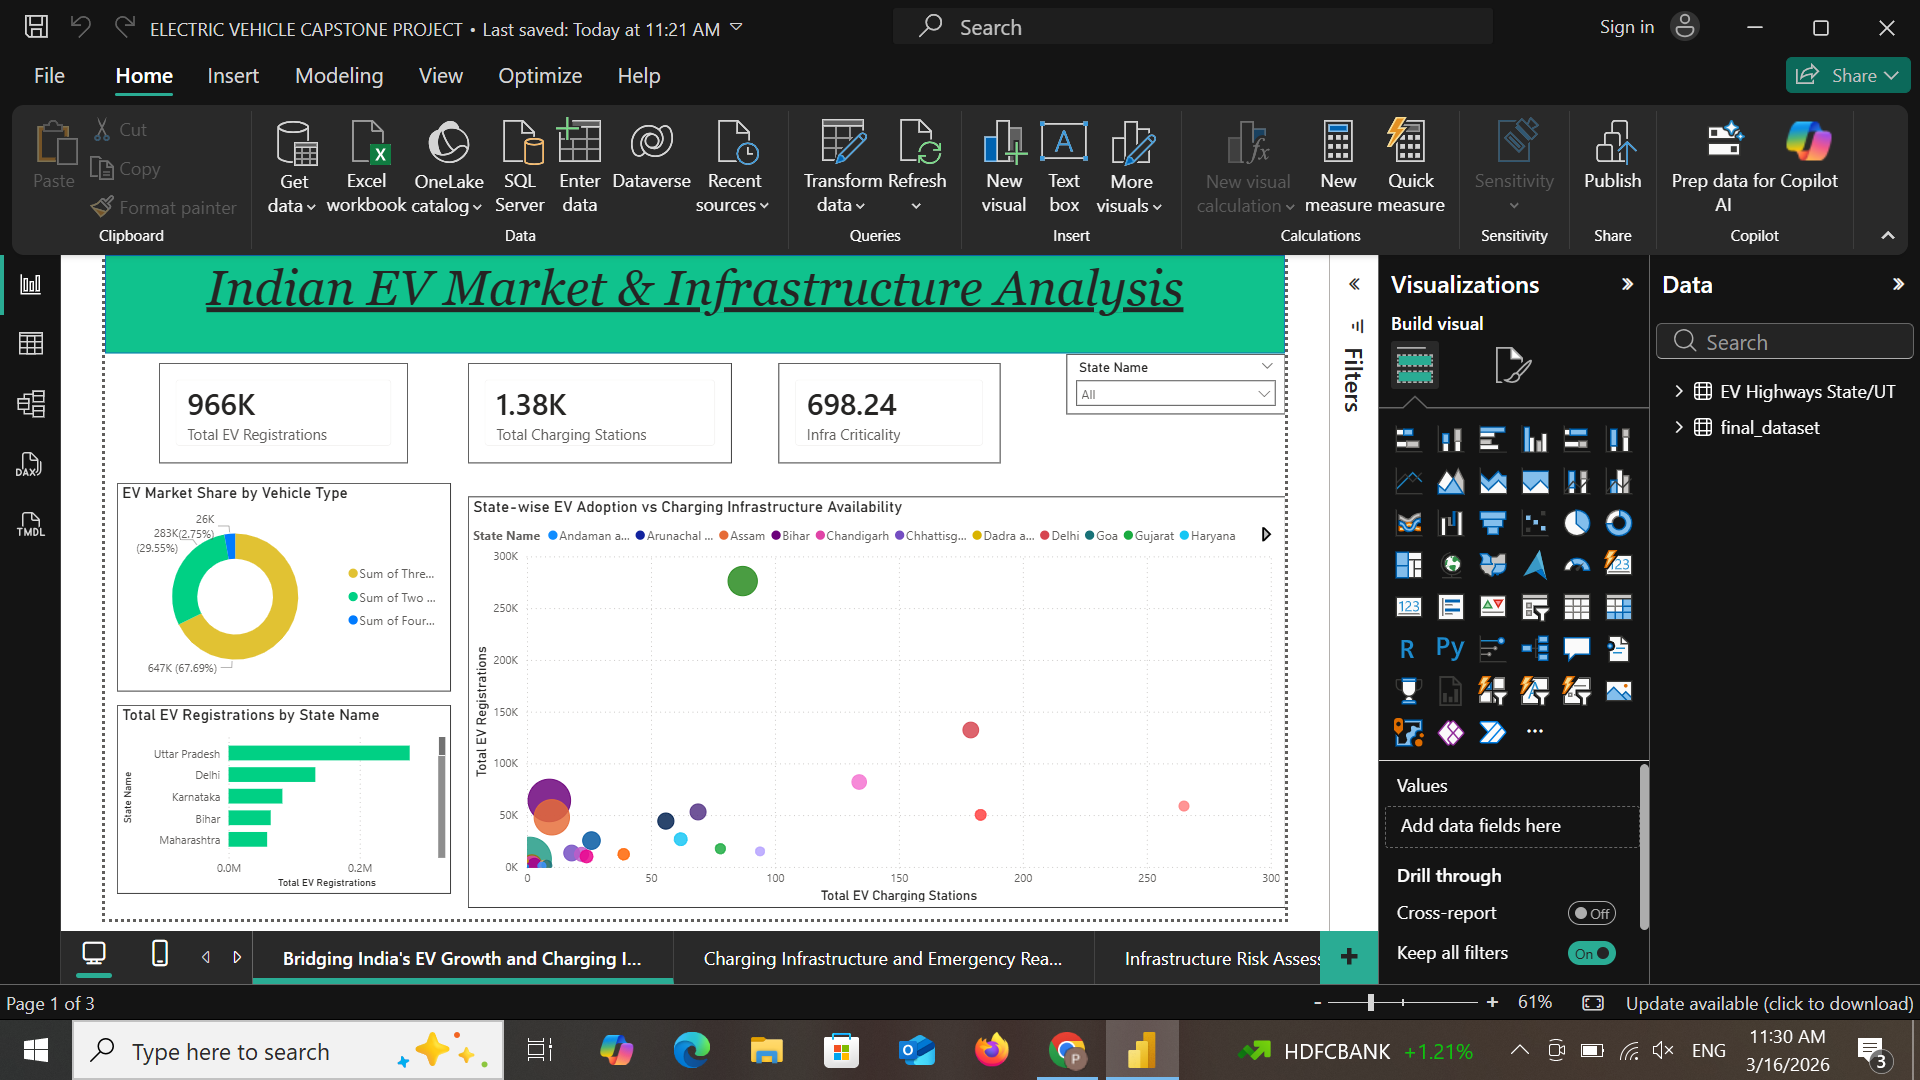

What the dashboard file says about the page in this screenshot:
{"tool":"powerbi","page":{"name":"Bridging India's EV Growth and Charging Infrastructure Gap","canvas":[1280,720],"ordinal":0},"visuals":[{"type":"shape","box":[0,0,1279.4,106.8],"z":0},{"type":"textbox","box":[0,0,1279.4,106.8],"z":1000},{"type":"cardVisual","title":"Total EV Registrations","fields":{"Data":["Sum(final_dataset.Total EV Registrations)"]},"box":[58.6,117.1,270,109],"z":2000},{"type":"cardVisual","fields":{"Data":["Sum(final_dataset.total-charging-stations)"]},"box":[393.6,117.1,286.3,109],"z":3000},{"type":"donutChart","title":"EV Market Share by Vehicle Type","fields":{"Y":["Sum(final_dataset.Three Wheeler)","Sum(final_dataset.Two Wheeler)","Sum(final_dataset.Four Wheeler)"]},"box":[12.3,246.8,362.3,225.8],"z":5000},{"type":"clusteredBarChart","fields":{"Category":["final_dataset.State Name"],"Y":["Sum(final_dataset.Total EV Registrations)"]},"box":[12.3,488.3,362.3,204.8],"z":6000},{"type":"slicer","fields":{"Values":["final_dataset.State Name"]},"box":[1042.6,107.4,237.5,65.1],"z":7000},{"type":"scatterChart","title":"State-wise EV Adoption vs Charging Infrastructure Availability","fields":{"X":["Sum(final_dataset.total-charging-stations)"],"Y":["Sum(final_dataset.Grand Total)"],"Series":["final_dataset.State Name"],"Size":["final_dataset.EVs_per_Station"]},"box":[393.6,261.9,886.5,445.7],"z":8000},{"type":"cardVisual","fields":{"Data":["final_dataset.Infra Criticality"]},"box":[730.3,117.1,240.7,109],"z":9000}]}

Visuals, with their boxes on the page's 1280x720 design canvas (x1, y1, x2, y2). These are canvas units, not pixel positions in the 1920x1080 screenshot, which may show the page scaled, cropped or inside an application window:
shape: <region>0, 0, 1279, 107</region>
textbox: <region>0, 0, 1279, 107</region>
"Total EV Registrations" cardVisual: <region>59, 117, 329, 226</region>
cardVisual - Sum(final_dataset.total-charging-stations): <region>394, 117, 680, 226</region>
"EV Market Share by Vehicle Type" donutChart: <region>12, 247, 375, 473</region>
clusteredBarChart - final_dataset.State Name x Sum(final_dataset.Total EV Registrations): <region>12, 488, 375, 693</region>
slicer - final_dataset.State Name: <region>1043, 107, 1280, 172</region>
"State-wise EV Adoption vs Charging Infrastructure Availability" scatterChart: <region>394, 262, 1280, 708</region>
cardVisual - final_dataset.Infra Criticality: <region>730, 117, 971, 226</region>
